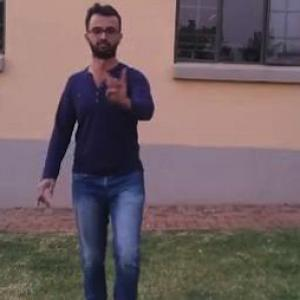takeoff-hand: (93, 58, 136, 114)
